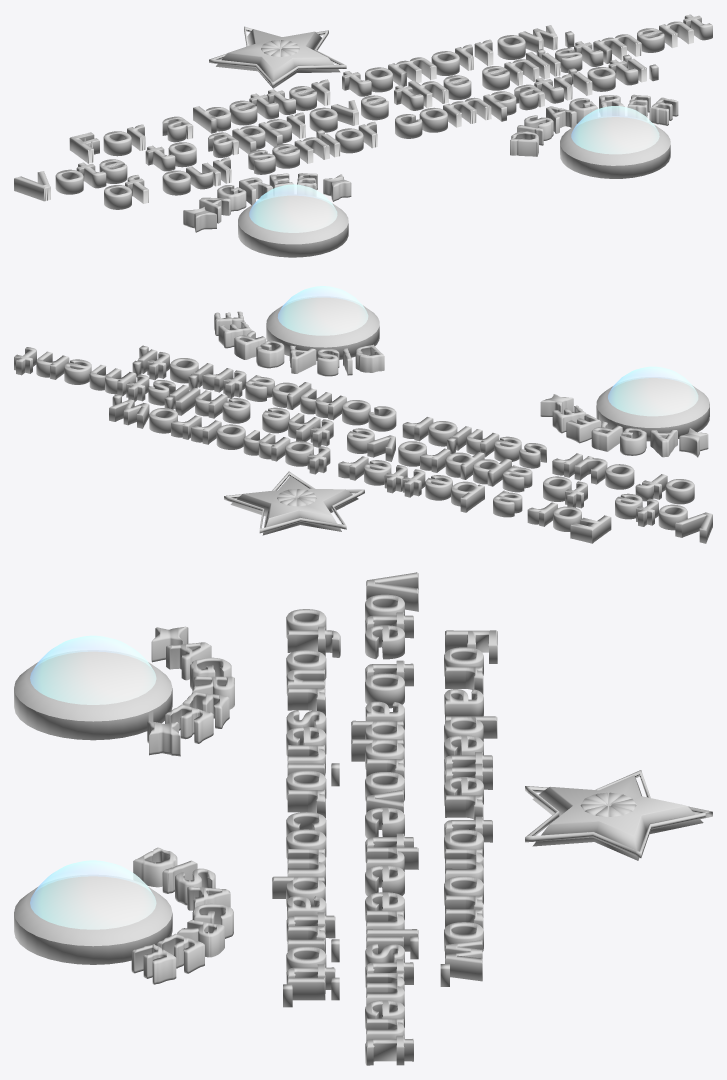
File: buttonC_EN.glb
3 views of the same model, one above another, from view 1: azimuth 30°, elevation 25°; view 2: azimuth 150°, elevation 25°; view 3: azimuth 270°, elevation 25° (orthographic). The views are drawn at different scales.
Visible parts, largest first — view 1: 圓柱體.005; view 2: 圓柱體.005; view 3: 圓柱體.005.
Boxes of the visible parts, <box> form: 圓柱體.005: <box>14,14,712,257</box>; 圓柱體.005: <box>14,286,712,543</box>; 圓柱體.005: <box>14,572,712,1065</box>.
Size of the model in its own units: 0.703 by 0.0446 by 0.4372.
